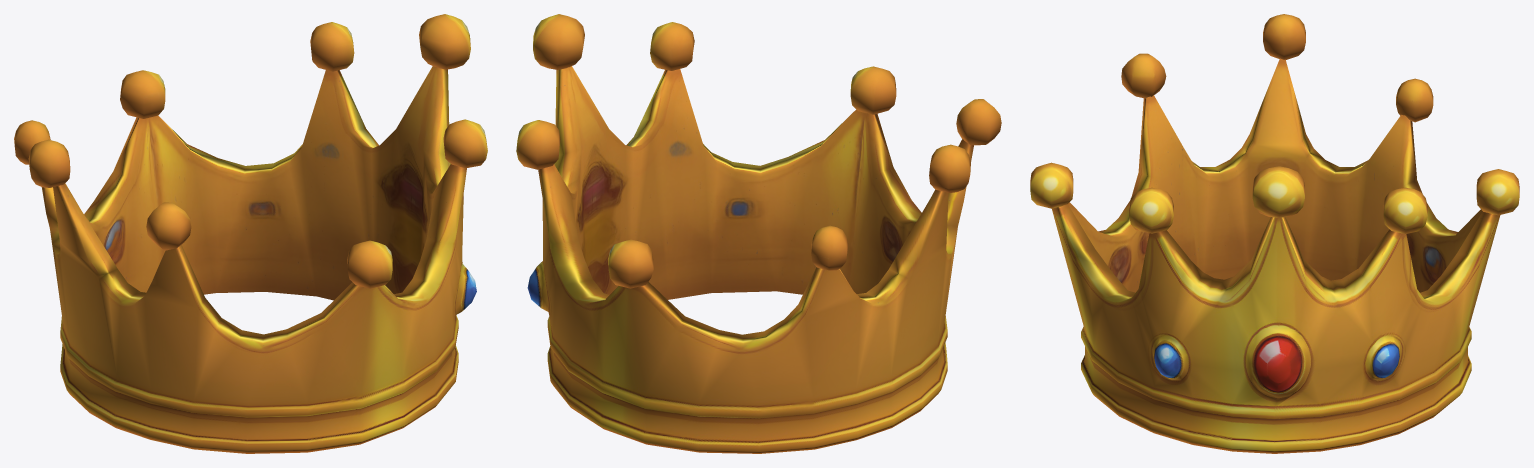
Rendered from crown-r1.glb.
The picture shows the model from 3 angles, left to right: view 1: azimuth 30°, elevation 25°; view 2: azimuth 150°, elevation 25°; view 3: azimuth 270°, elevation 25°; orthographic projection. The views are drawn at different scales.
Visible parts, largest first — view 1: tripo_node_3d37eae5-4e7f-4be1-9a0f-6720382afe10; view 2: tripo_node_3d37eae5-4e7f-4be1-9a0f-6720382afe10; view 3: tripo_node_3d37eae5-4e7f-4be1-9a0f-6720382afe10.
Part boxes in pixels (x1,y1,x2,y2): tripo_node_3d37eae5-4e7f-4be1-9a0f-6720382afe10: [14, 14, 487, 453]; tripo_node_3d37eae5-4e7f-4be1-9a0f-6720382afe10: [516, 14, 1001, 453]; tripo_node_3d37eae5-4e7f-4be1-9a0f-6720382afe10: [1030, 14, 1519, 453].
Size of the model in its own units: 0.9824 by 0.6582 by 0.998.
1 material, 1 textured.
